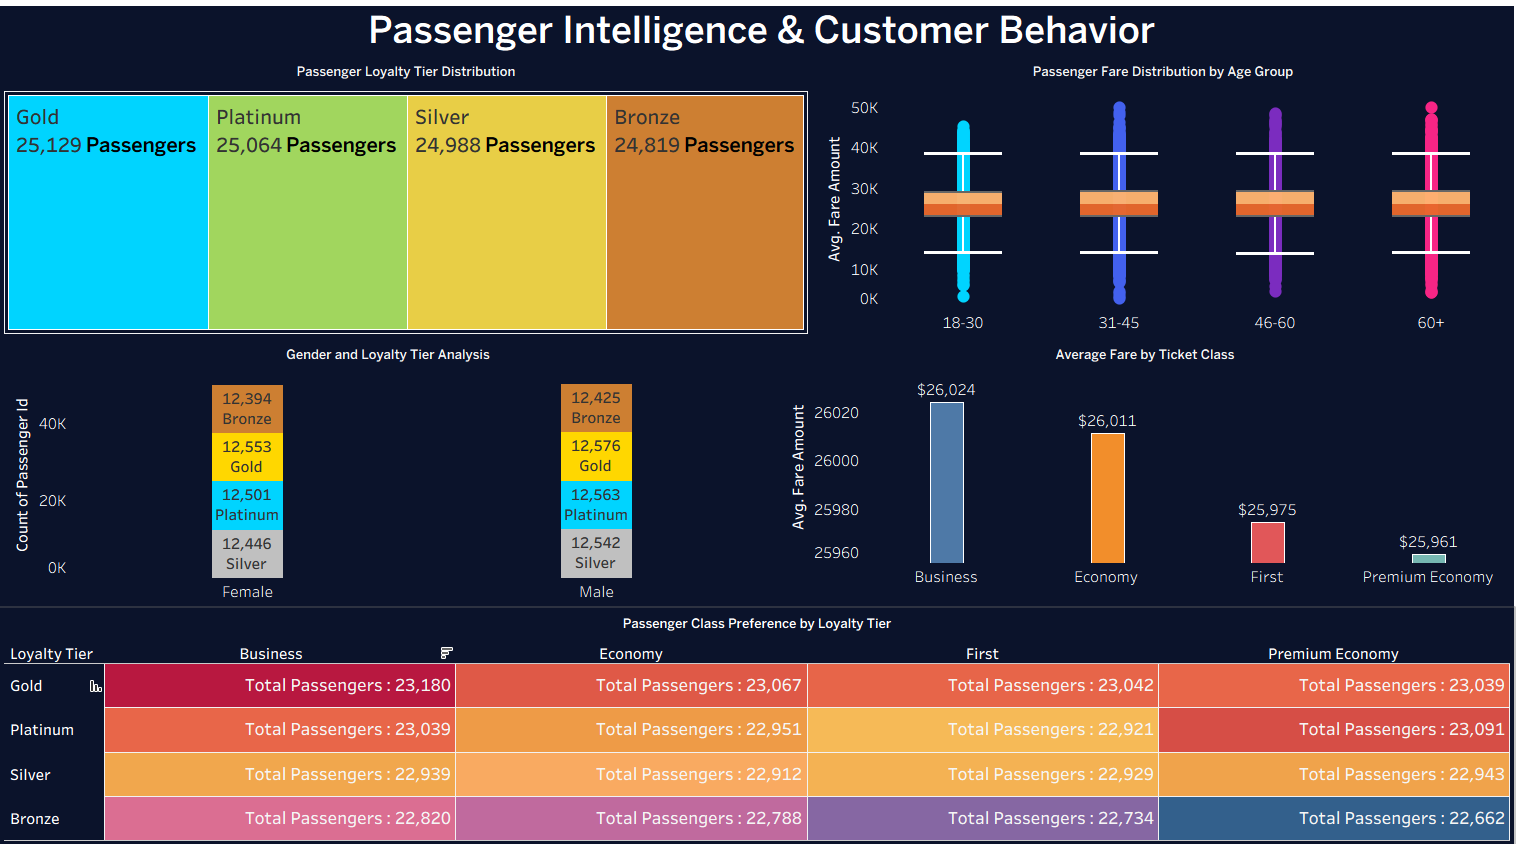

The dashboard page shown, as its layout file describes it:
{"tool":"tableau","page":{"name":" Passenger Intelligence & Customer Behavior","canvas":[1530,855],"ordinal":0},"visuals":[{"type":"title","box":[8,8,1514,50]},{"type":"dashboard-object","box":[20,15,106,39]},{"type":"worksheet","title":"Passenger Loyalty Tier Distribution","mark":"Automatic","box":[8,58,812,283]},{"type":"worksheet","title":"Passenger Fare Distribution by Age Group","mark":"Circle","rows":["fare_amount"],"cols":["age_group"],"box":[820,58,702,283]},{"type":"worksheet","title":"Gender and Loyalty Tier Analysis","mark":"Bar","rows":["passenger_id"],"cols":["gender"],"box":[8,341,776.1,269]},{"type":"worksheet","title":"Average Fare by Ticket Class","mark":"Bar","rows":["fare_amount"],"cols":["class_name"],"box":[784.1,341,737.9,269]},{"type":"worksheet","title":"Passenger Class Preference by Loyalty Tier","mark":"Square","rows":["loyalty_tier"],"cols":["class_name"],"box":[8,610,1514,237]}]}

Visuals, with their boxes in screenshot pixels (x1, y1, x2, y2), scaled from the page's 1530x855 canvas onto the 1519x844 screenshot:
title: {"x1": 8, "y1": 8, "x2": 1511, "y2": 57}
dashboard-object: {"x1": 20, "y1": 15, "x2": 125, "y2": 53}
"Passenger Loyalty Tier Distribution" worksheet: {"x1": 8, "y1": 57, "x2": 814, "y2": 337}
"Passenger Fare Distribution by Age Group" worksheet (Circle marks): {"x1": 814, "y1": 57, "x2": 1511, "y2": 337}
"Gender and Loyalty Tier Analysis" worksheet (Bar marks): {"x1": 8, "y1": 337, "x2": 778, "y2": 602}
"Average Fare by Ticket Class" worksheet (Bar marks): {"x1": 778, "y1": 337, "x2": 1511, "y2": 602}
"Passenger Class Preference by Loyalty Tier" worksheet (Square marks): {"x1": 8, "y1": 602, "x2": 1511, "y2": 836}
